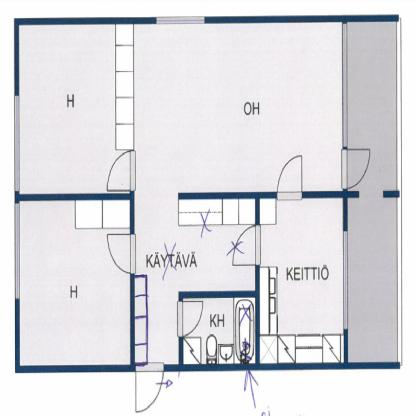door: (130, 361, 168, 416), (276, 149, 306, 204), (232, 220, 262, 271), (339, 147, 373, 190), (107, 230, 138, 275), (105, 152, 137, 192), (174, 296, 204, 338)
window: (340, 22, 348, 146), (13, 96, 20, 195), (15, 202, 20, 298), (157, 16, 204, 25)
zone: (135, 22, 346, 364), (18, 25, 132, 194), (344, 20, 398, 362), (21, 198, 130, 364), (257, 198, 343, 362)
